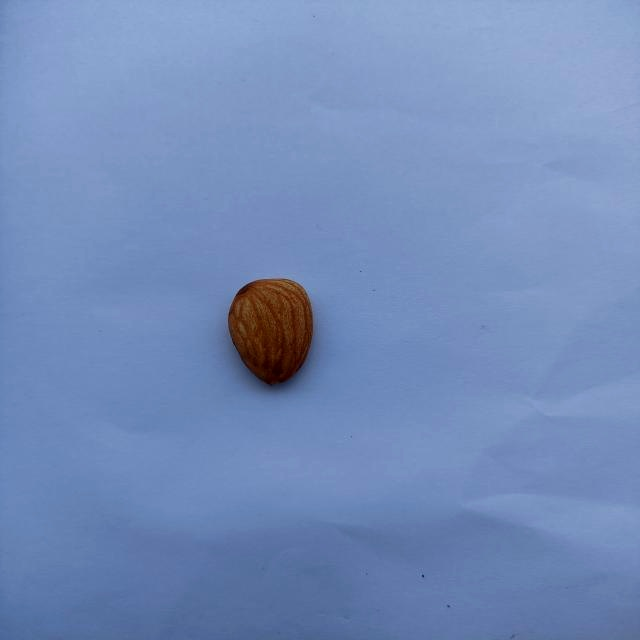grade1: (222, 272, 323, 393)
